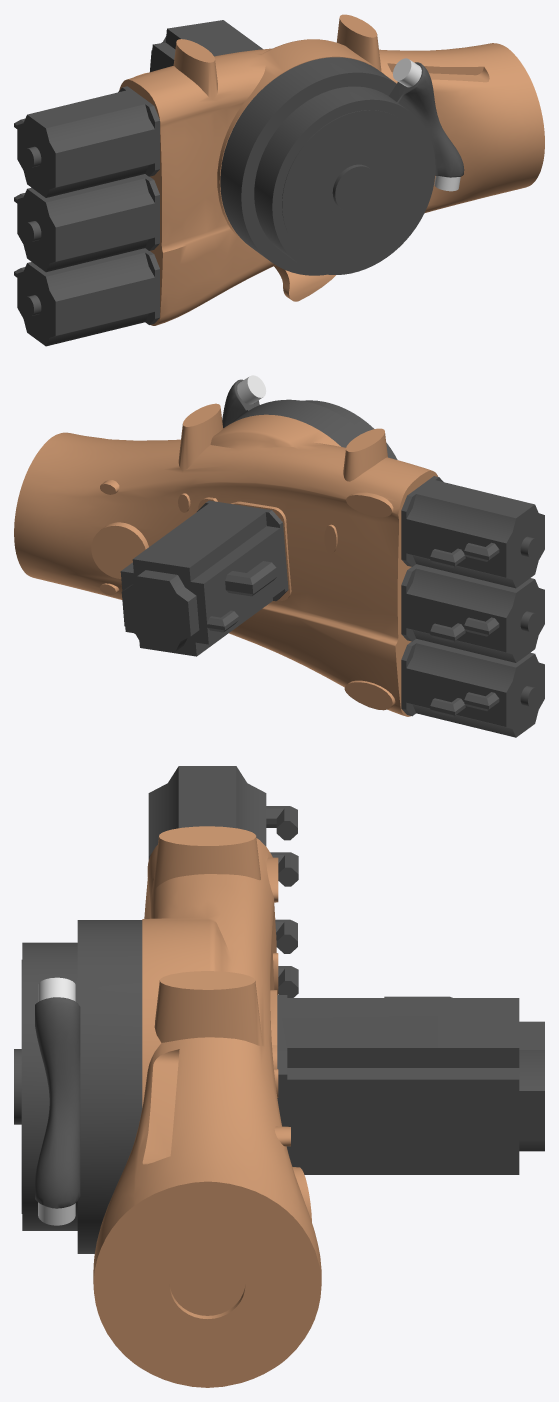
3 renders of one model, top to bottom at view 1: azimuth 30°, elevation 25°; view 2: azimuth 150°, elevation 25°; view 3: azimuth 270°, elevation 25°, orthographic. The views are drawn at different scales.
Visible parts, largest first — view 1: link_03; view 2: link_03; view 3: link_03.
Boxes of the visible parts, x1,y1,x2,y2 form: link_03: [14, 14, 544, 346]; link_03: [14, 375, 544, 737]; link_03: [14, 766, 544, 1387].
Size of the model in its own units: 1.11 by 0.6995 by 0.5705.
